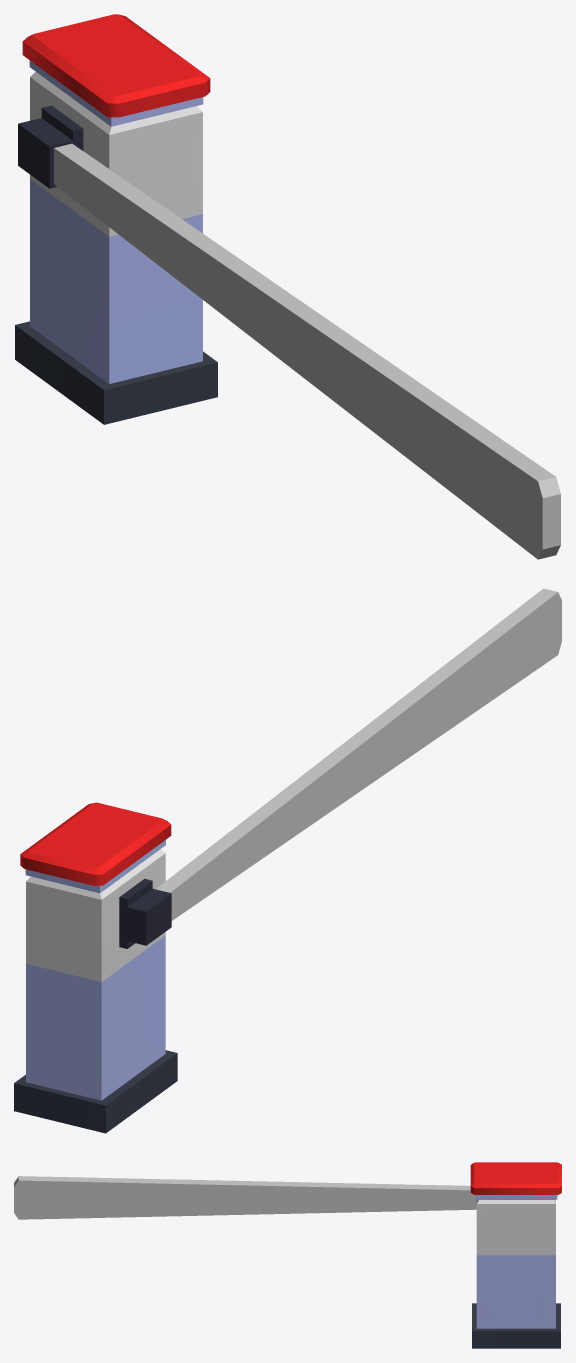
File: RoadStop_1_B.fbx
The picture shows the model from 3 angles, top to bottom: view 1: azimuth 30°, elevation 25°; view 2: azimuth 150°, elevation 25°; view 3: azimuth 270°, elevation 25°; orthographic projection. The views are drawn at different scales.
Parts seen in each view (by area): view 1: RoadStop_1_B, RoadStop_2; view 2: RoadStop_1_B, RoadStop_2; view 3: RoadStop_2, RoadStop_1_B.
Part boxes in pixels (box(x1,y1,x2,y2)): RoadStop_1_B: box(15, 14, 217, 424); RoadStop_2: box(18, 105, 560, 559); RoadStop_1_B: box(14, 802, 177, 1133); RoadStop_2: box(119, 588, 561, 948); RoadStop_2: box(14, 1176, 476, 1219); RoadStop_1_B: box(470, 1162, 561, 1348).
Bounding box in the file's own units: 0.5232 × 1.17 × 3.61.
